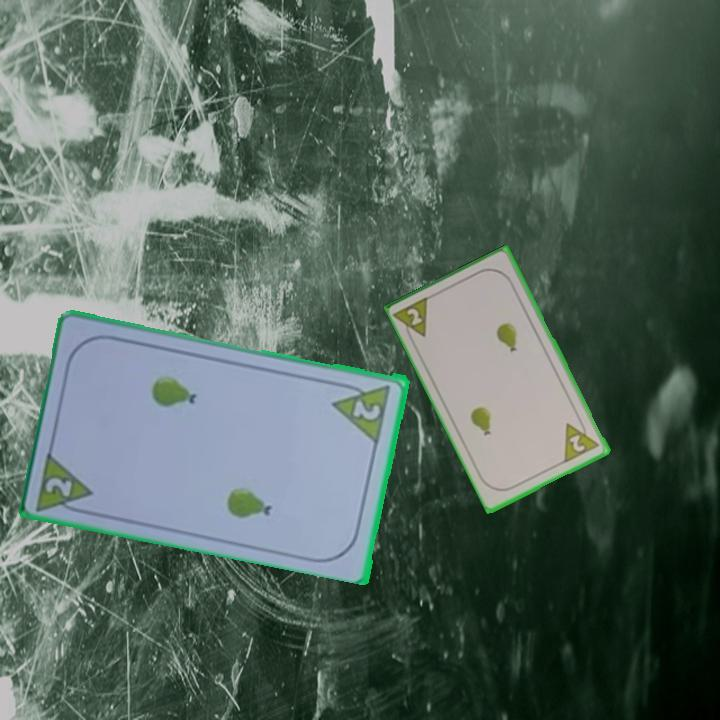2p: (560, 414, 603, 466), (392, 293, 433, 345), (41, 473, 76, 500), (350, 396, 384, 423)
